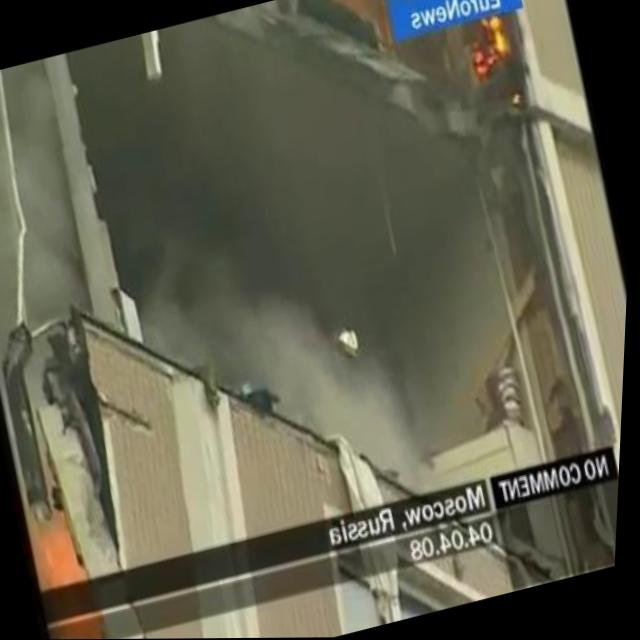fire: (458, 9, 518, 84)
